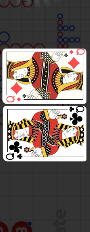9D: (5, 96, 22, 104)
